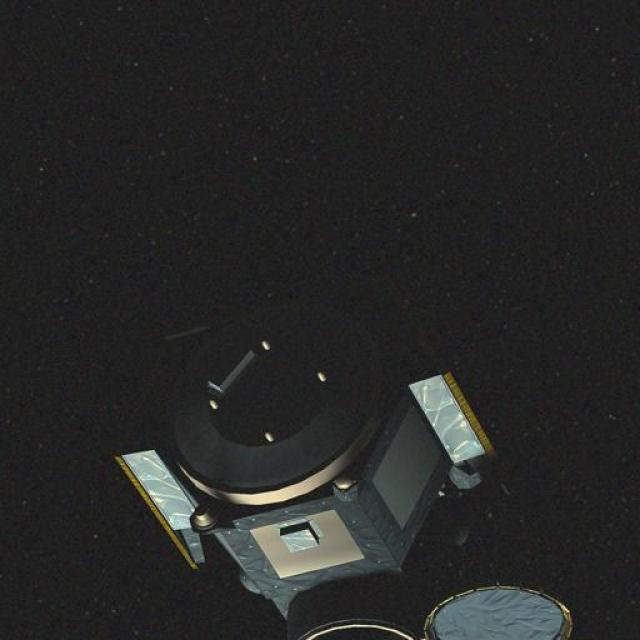cheops: (113, 260, 493, 640)
